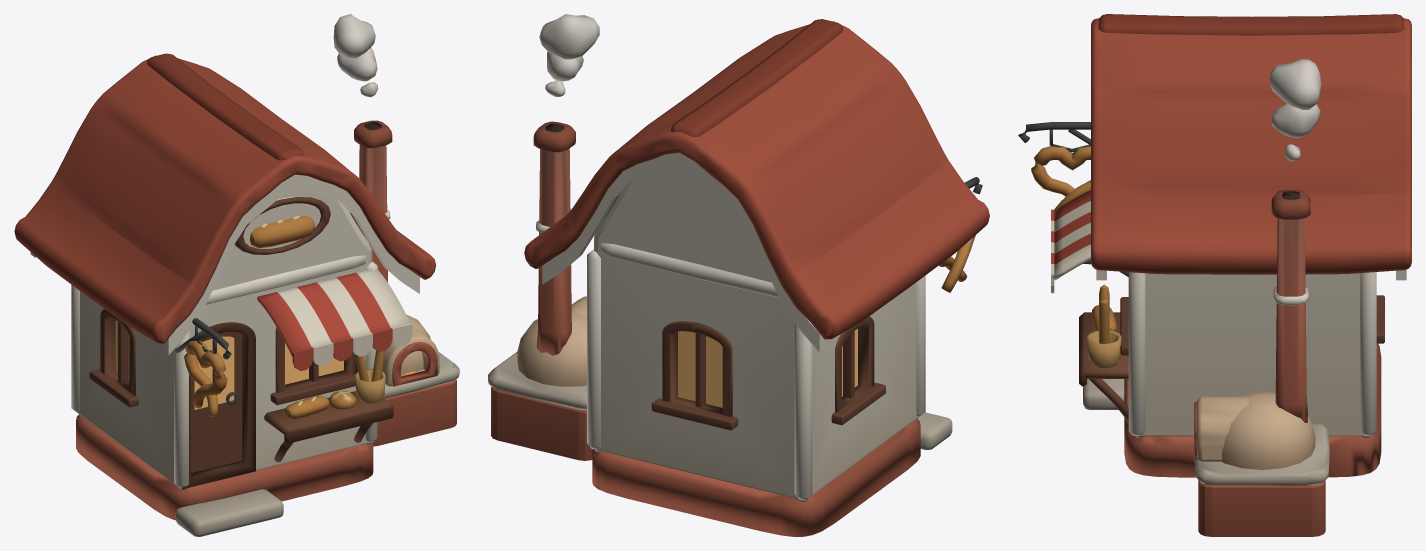
Rendered from BLD_Bakery_A_T1.fbx.
3 views of the same model, side by side, from view 1: azimuth 30°, elevation 25°; view 2: azimuth 150°, elevation 25°; view 3: azimuth 270°, elevation 25° (orthographic). The views are drawn at different scales.
Parts seen in each view (by area): view 1: BLD_Bakery_A_T1_Body_LOD0, BLD_Bakery_A_T1_Sign_LOD0, BLD_Bakery_A_T1_Puff3_LOD0, BLD_Bakery_A_T1_Puff2_LOD0; view 2: BLD_Bakery_A_T1_Body_LOD0, BLD_Bakery_A_T1_Puff3_LOD0, BLD_Bakery_A_T1_Sign_LOD0, BLD_Bakery_A_T1_Puff2_LOD0; view 3: BLD_Bakery_A_T1_Body_LOD0, BLD_Bakery_A_T1_Puff3_LOD0, BLD_Bakery_A_T1_Sign_LOD0, BLD_Bakery_A_T1_Puff2_LOD0.
Part boxes in pixels (x1,y1,x2,y2): BLD_Bakery_A_T1_Body_LOD0: (14, 53, 459, 536); BLD_Bakery_A_T1_Sign_LOD0: (184, 325, 227, 416); BLD_Bakery_A_T1_Puff3_LOD0: (333, 14, 375, 58); BLD_Bakery_A_T1_Puff2_LOD0: (337, 48, 377, 81); BLD_Bakery_A_T1_Body_LOD0: (488, 19, 989, 536); BLD_Bakery_A_T1_Puff3_LOD0: (539, 14, 599, 59); BLD_Bakery_A_T1_Sign_LOD0: (939, 235, 975, 292); BLD_Bakery_A_T1_Puff2_LOD0: (546, 51, 583, 81); BLD_Bakery_A_T1_Body_LOD0: (1018, 14, 1411, 536); BLD_Bakery_A_T1_Puff3_LOD0: (1270, 59, 1321, 109); BLD_Bakery_A_T1_Sign_LOD0: (1031, 129, 1090, 210); BLD_Bakery_A_T1_Puff2_LOD0: (1271, 103, 1320, 138).
Size of what is drawn, in the model's own units: 3.51 by 3.66 by 2.97.
